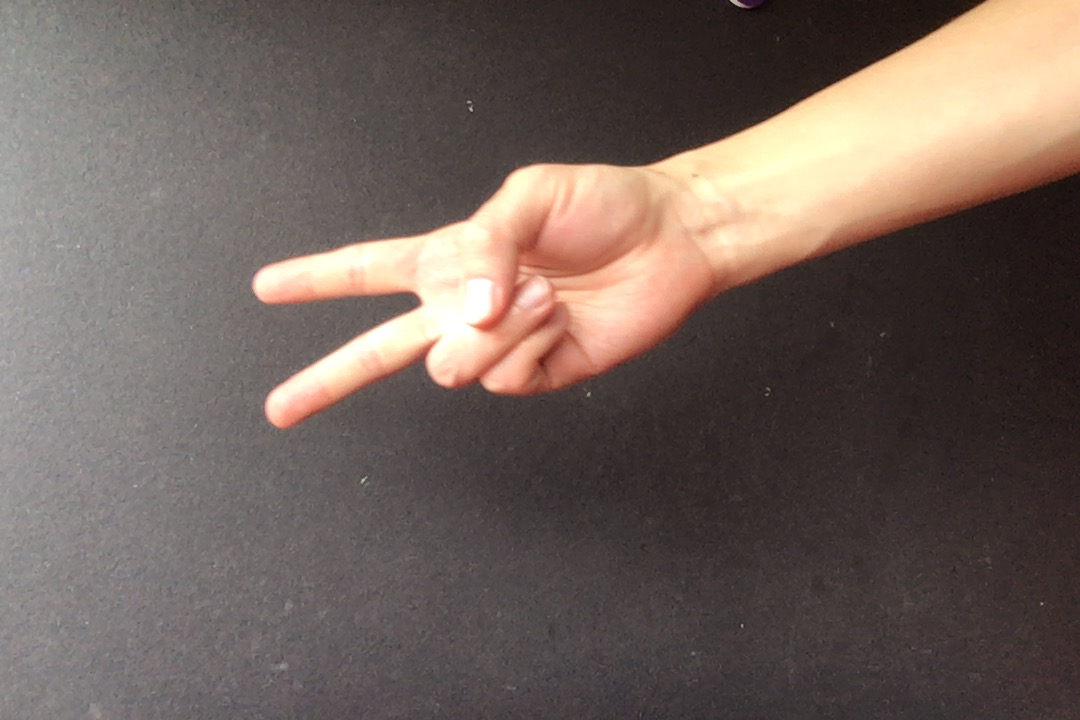peacesign: (246, 158, 703, 433)
